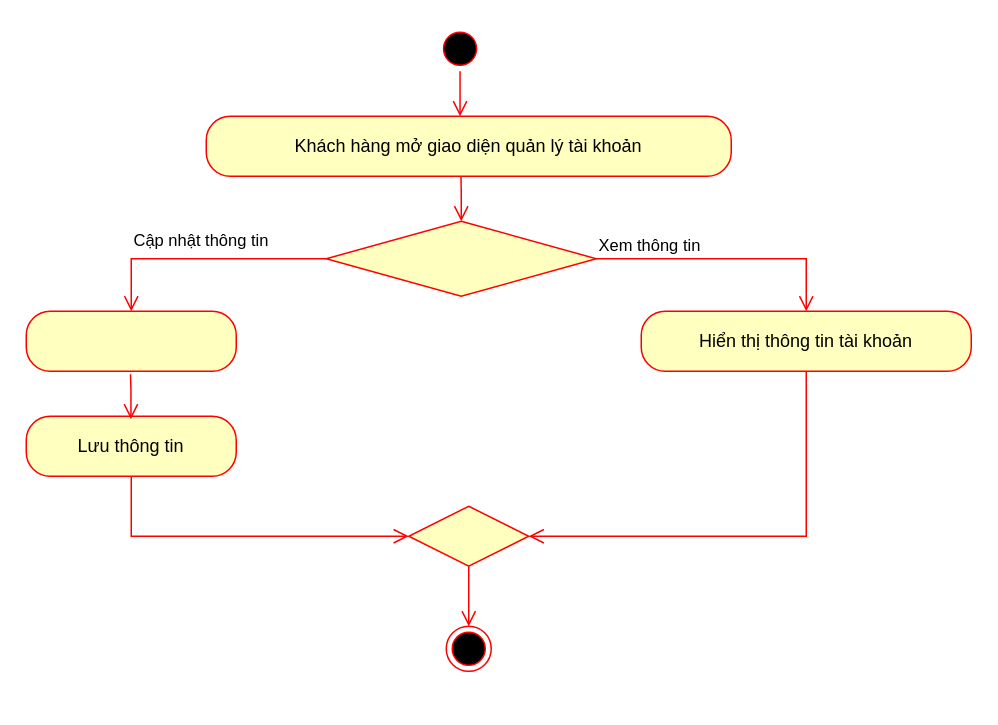
Image size: 998x725. Some labels were removed from this diagram. The centre of each missing label's shape, as x and y in pixels:
Thao tác cần thực hiện?: (x=460, y=258)
Điền thông tin mới: (x=130, y=340)
